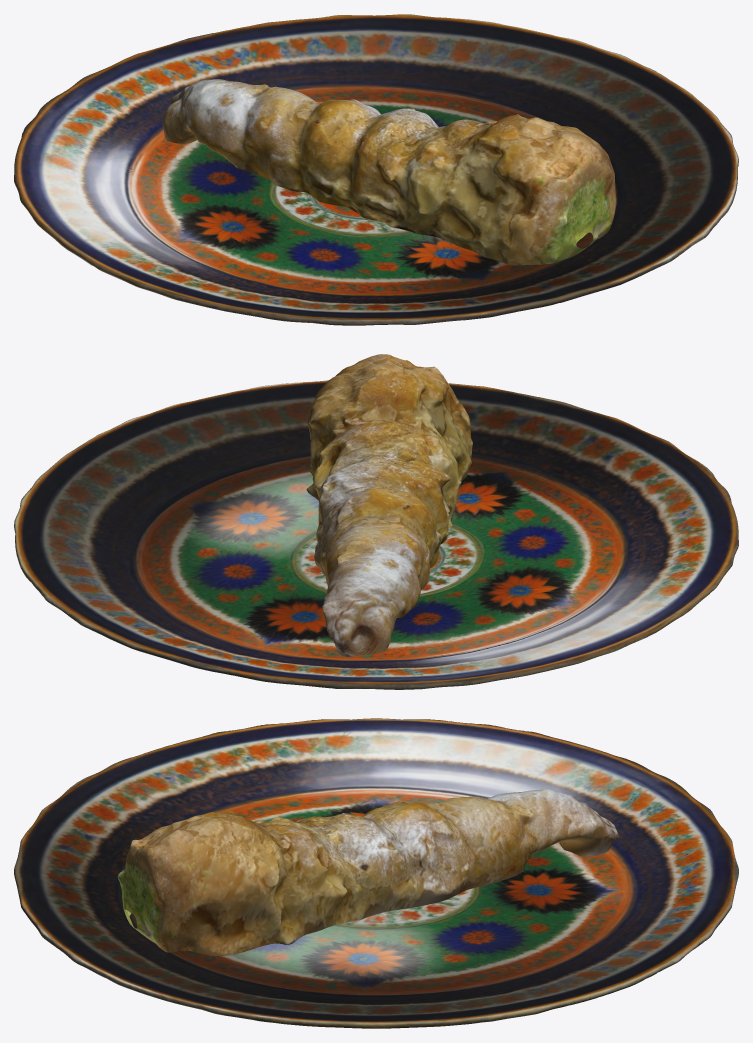
File: cream_roll.rapid.glb
3 views of the same model, one above another, from view 1: azimuth 30°, elevation 25°; view 2: azimuth 150°, elevation 25°; view 3: azimuth 270°, elevation 25° (orthographic).
Size of the model in its own units: 0.2002 by 0.0354 by 0.2003.
1 material, 1 textured.
